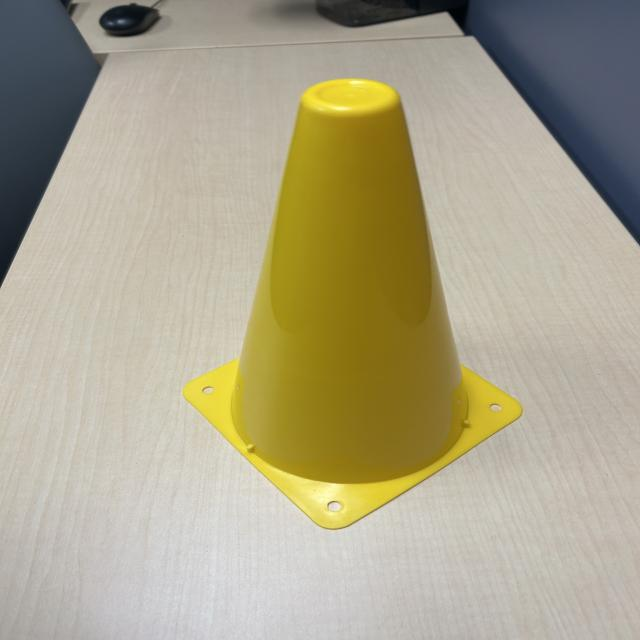yellow cone: (170, 71, 539, 536)
